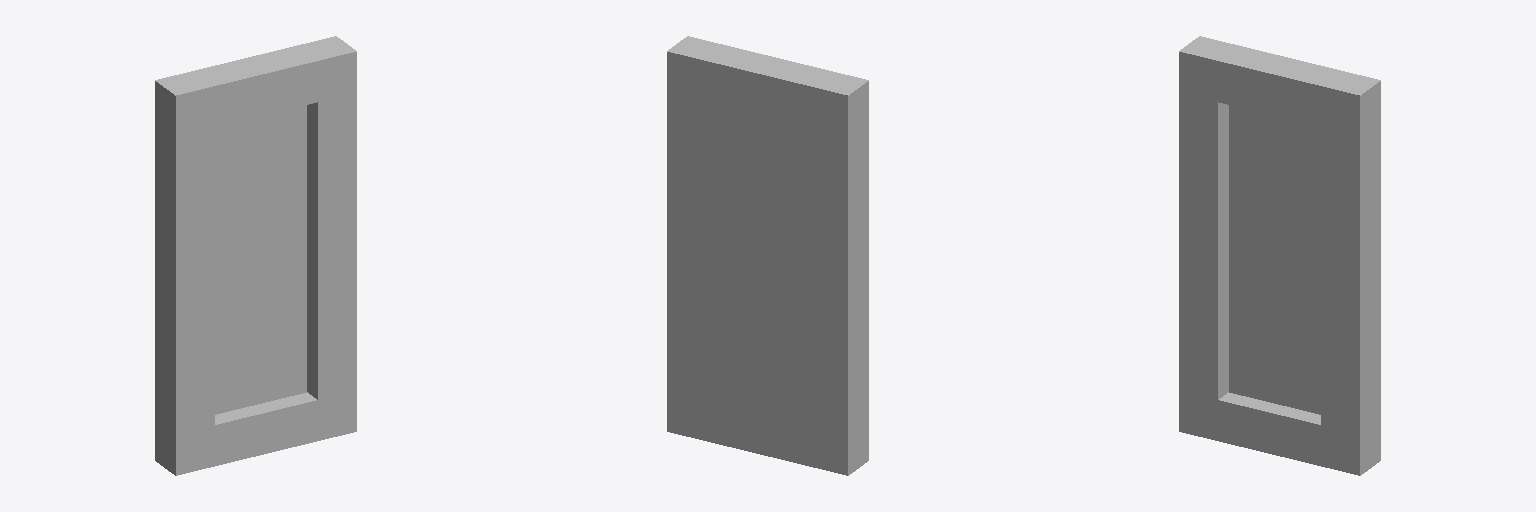
The model's file is door-white.obj.
The picture shows the model from 3 angles: view 1: azimuth 30°, elevation 25°; view 2: azimuth 150°, elevation 25°; view 3: azimuth 330°, elevation 25°; orthographic projection.
Parts seen in each view (by area): view 1: door-white; view 2: door-white; view 3: door-white.
Boxes of the visible parts, <box> form: door-white: <box>155,36,356,475</box>; door-white: <box>667,36,868,475</box>; door-white: <box>1179,36,1380,475</box>.
Bounding box in the file's own units: 0.25 × 0.5 × 0.05.